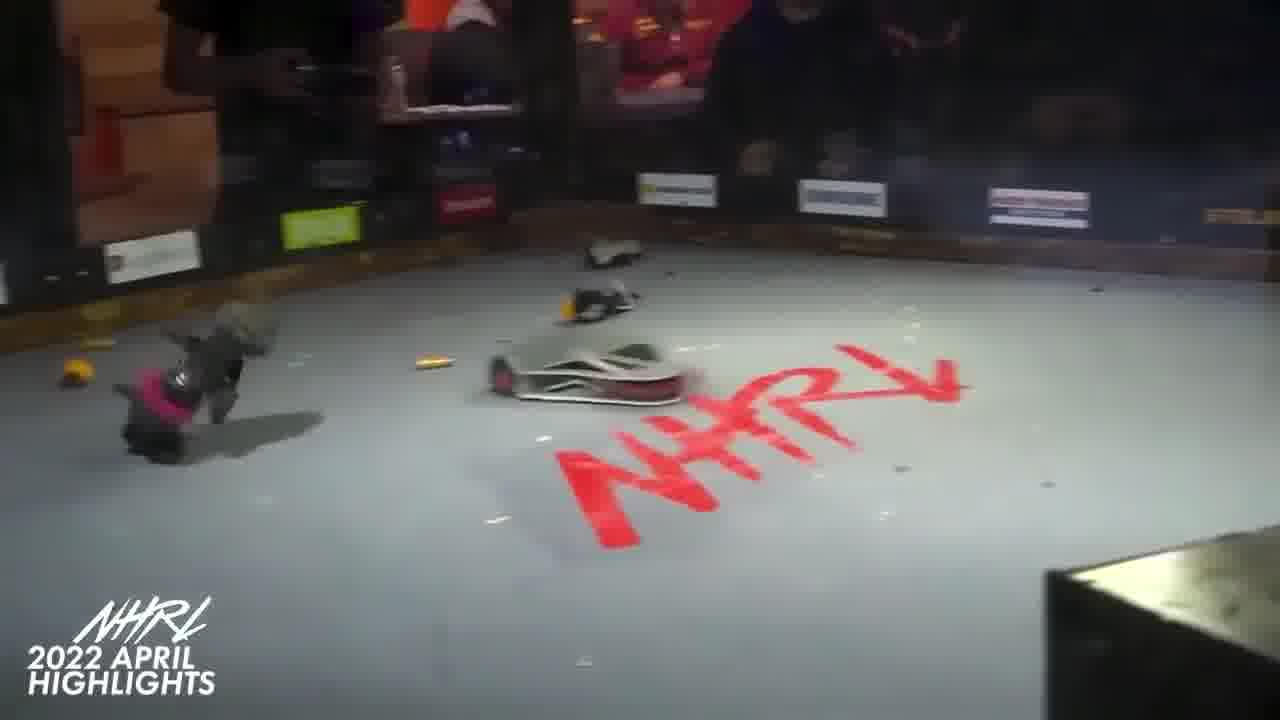combatbot: (114, 305, 281, 466), (488, 342, 682, 408)
debris: (414, 352, 455, 372), (66, 359, 92, 387)
housebot: (1045, 508, 1280, 717)
minibot: (557, 282, 645, 323), (584, 236, 647, 270)
